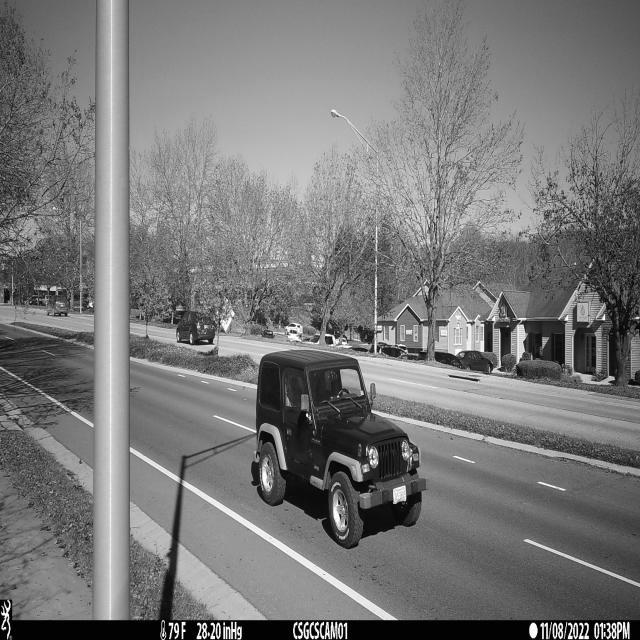SUV: (251, 350, 427, 550)
